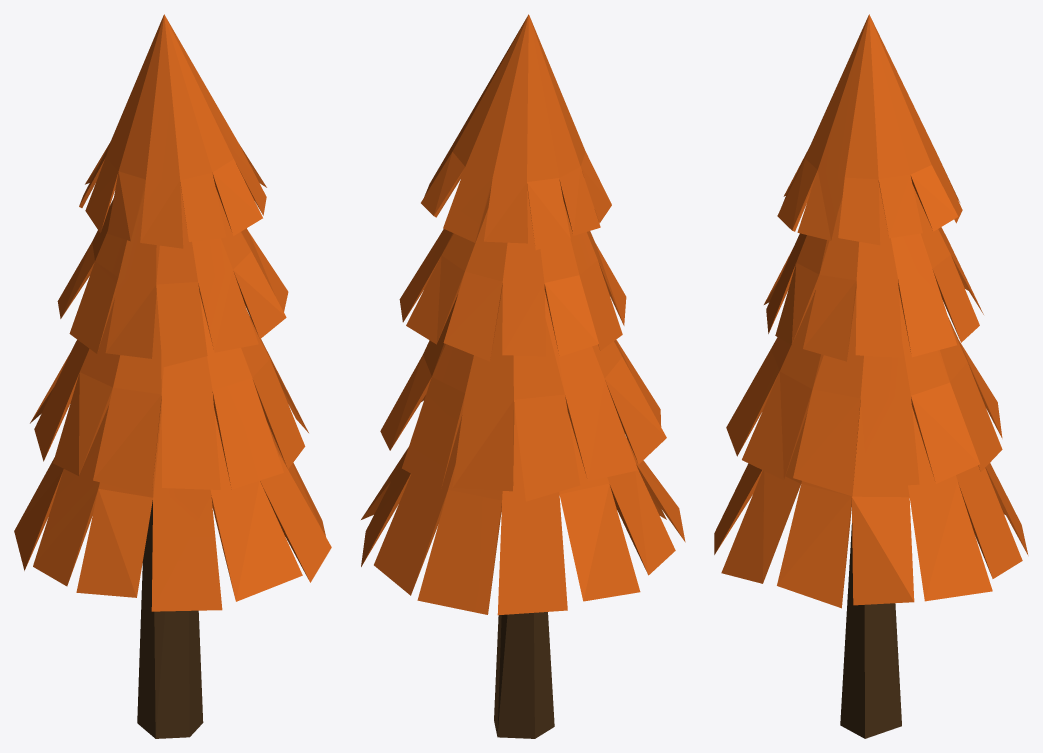
Rendered from orange_sapin.fbx.
3 renders of one model, left to right at view 1: azimuth 30°, elevation 25°; view 2: azimuth 150°, elevation 25°; view 3: azimuth 270°, elevation 25°, orthographic.
Visible parts, largest first — view 1: Tree_02; view 2: Tree_02; view 3: Tree_02.
Boxes of the visible parts, x1=… form: Tree_02: x1=14, y1=14, x2=331, y2=738; Tree_02: x1=361, y1=14, x2=685, y2=738; Tree_02: x1=714, y1=14, x2=1028, y2=738.
Size of the model in its own units: 452 by 1141 by 459.
